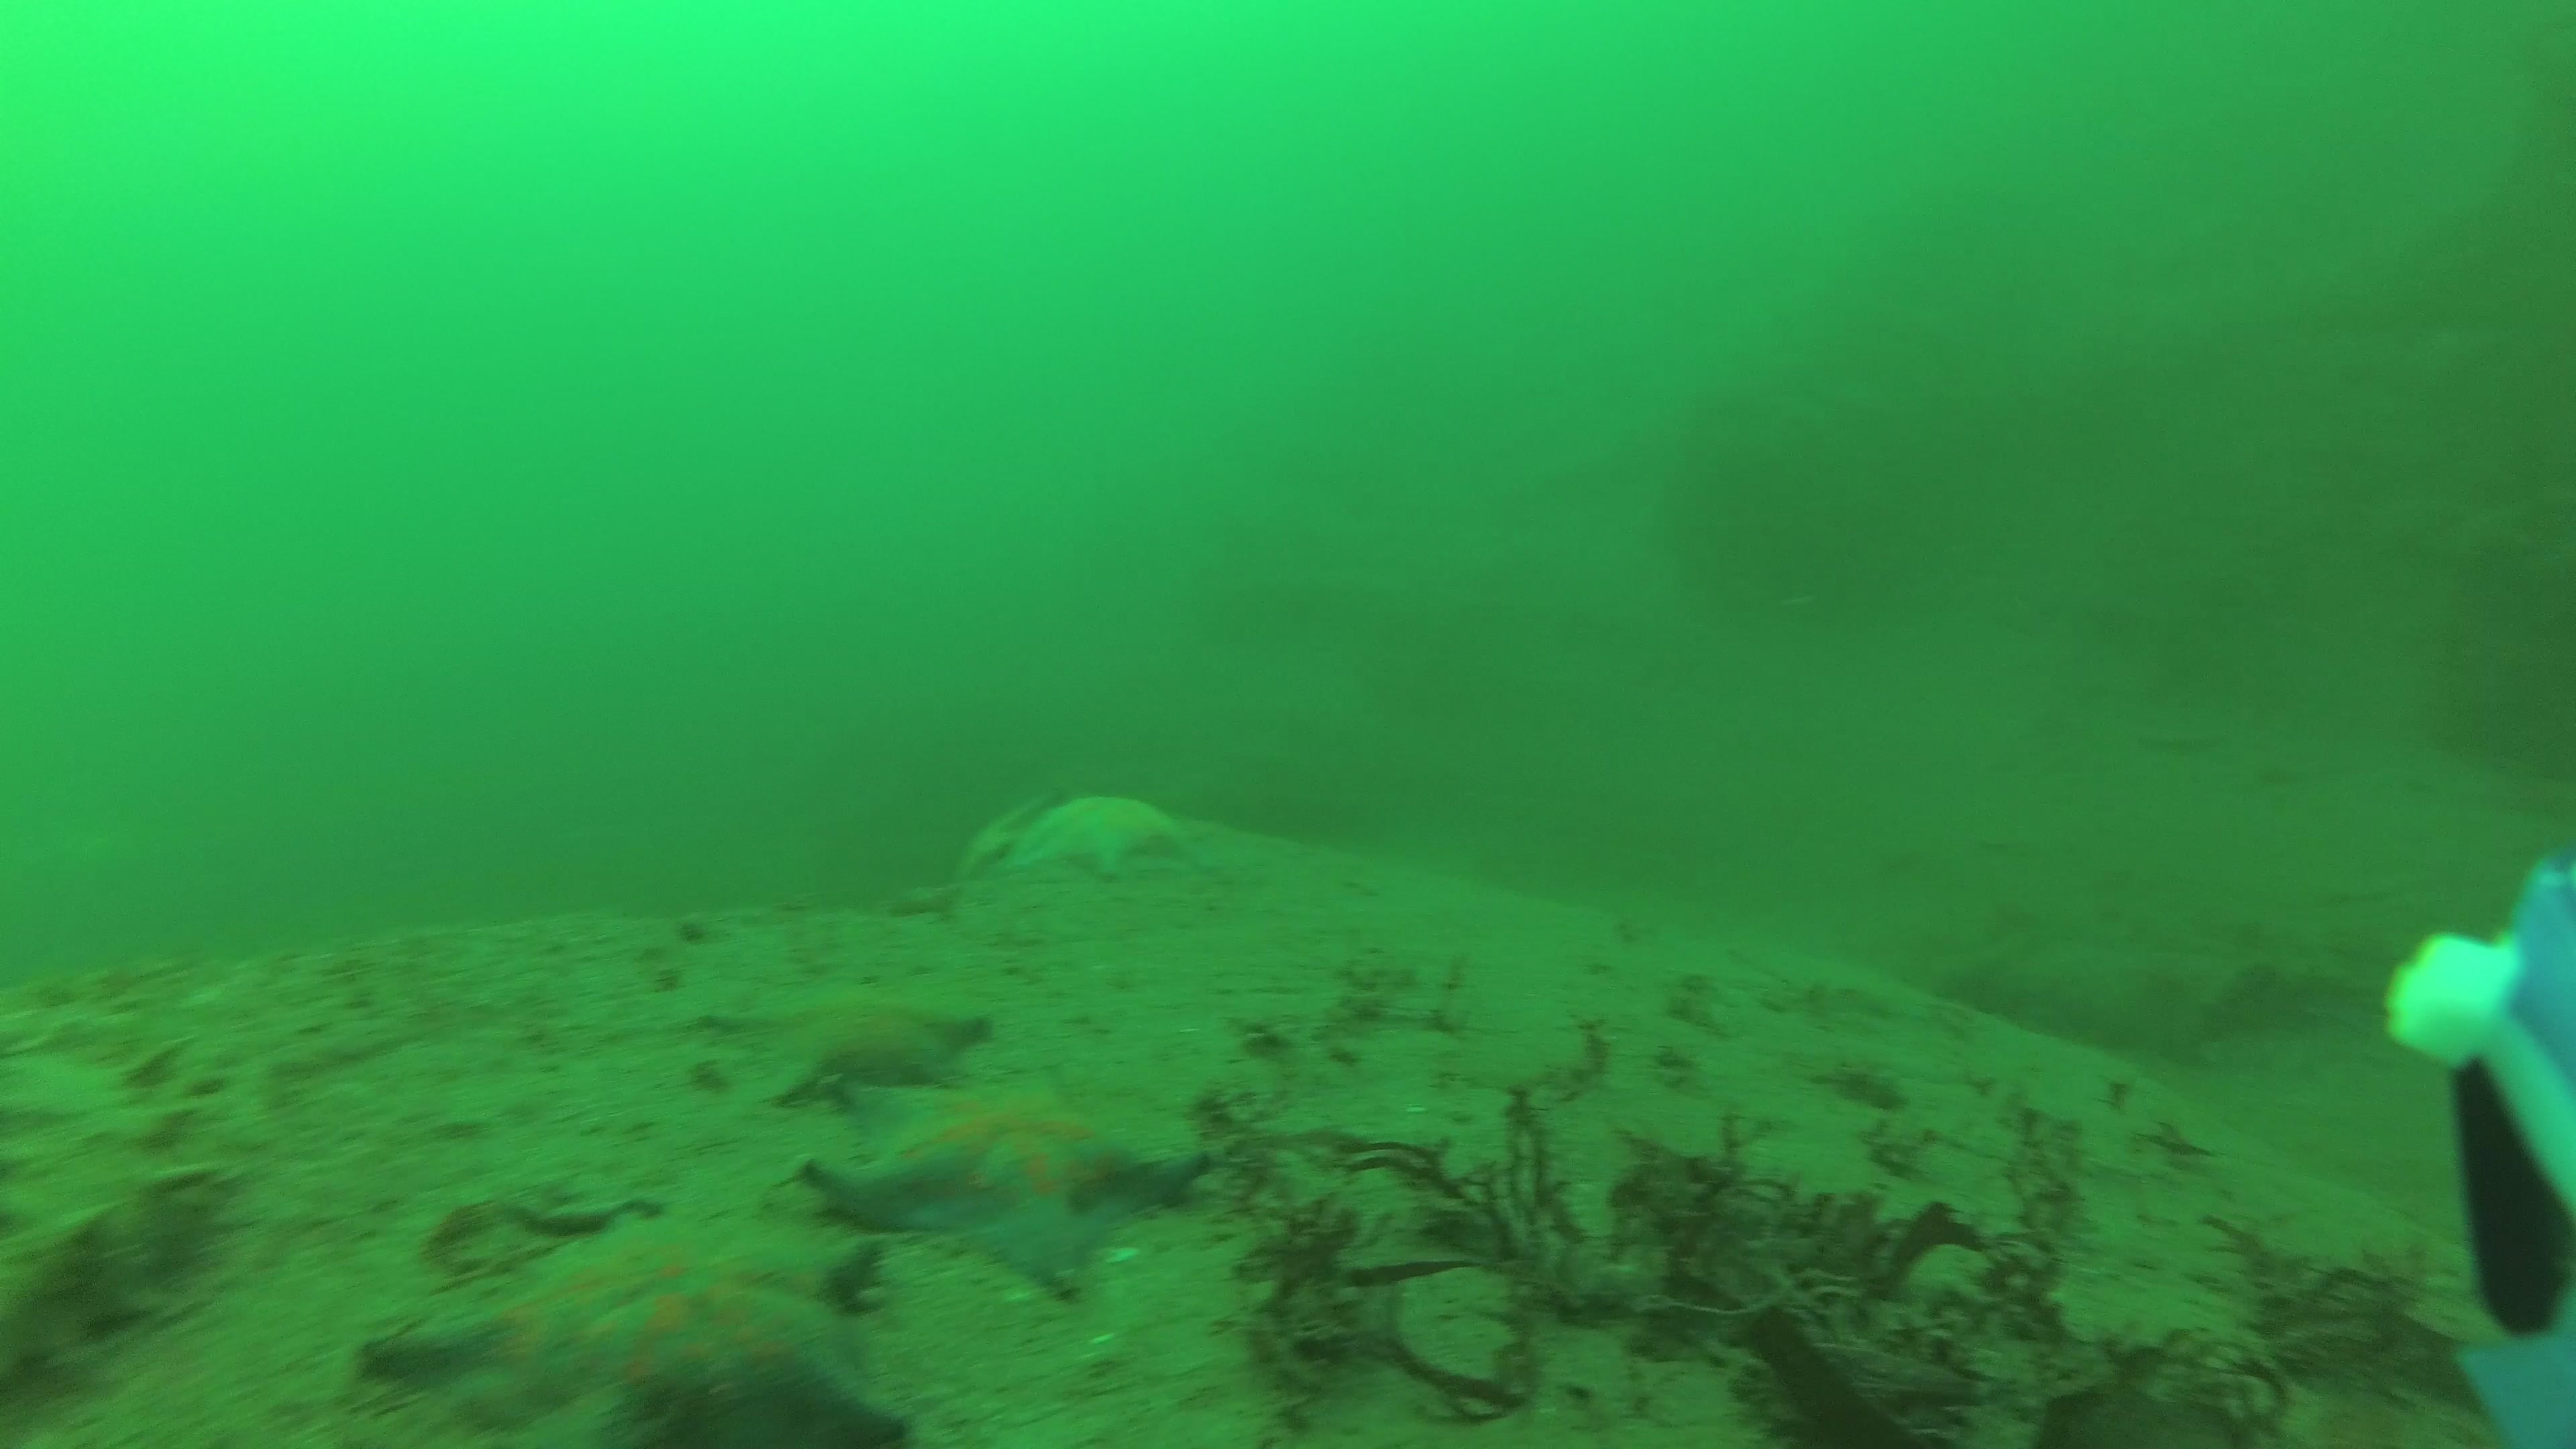holothurian: (11, 1033, 228, 1407)
starfish: (364, 1226, 924, 1449), (803, 1093, 1207, 1304), (731, 971, 998, 1106), (1008, 796, 1191, 885)
